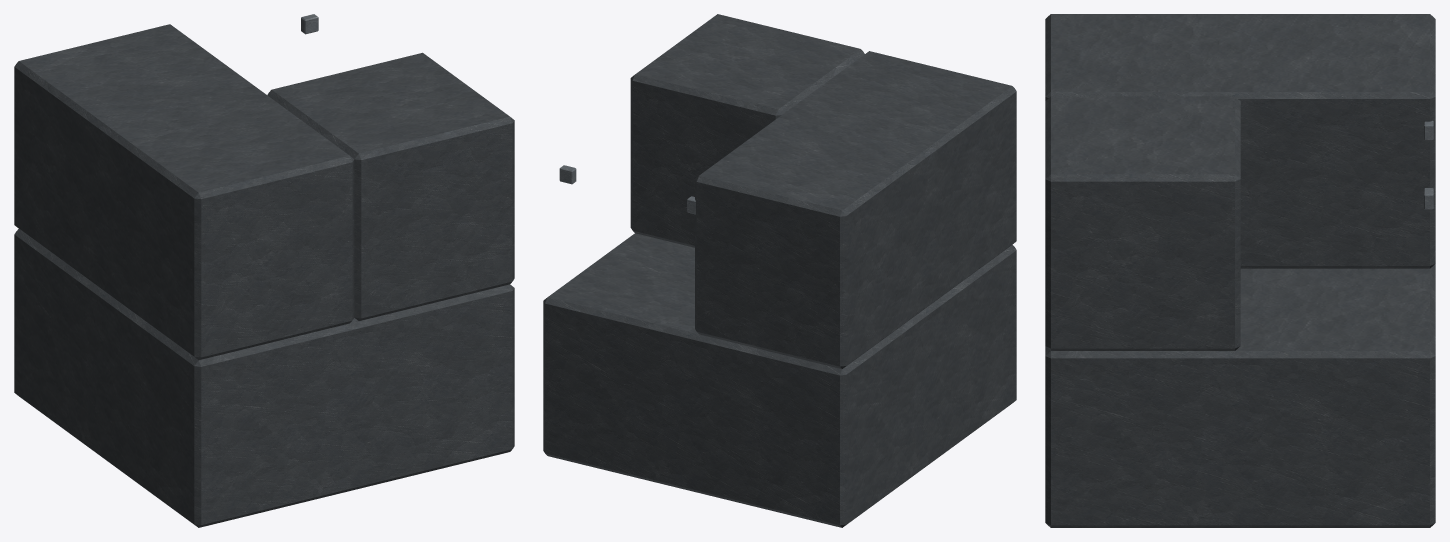
Rendered from train_sheet_metal_inner_corner.gltf.
The picture shows the model from 3 angles, left to right: view 1: azimuth 30°, elevation 25°; view 2: azimuth 150°, elevation 25°; view 3: azimuth 270°, elevation 25°; orthographic projection. The views are drawn at different scales.
Bounding box in the file's own units: 1 × 1 × 1.
Materials: 2 (2 with a texture image).
